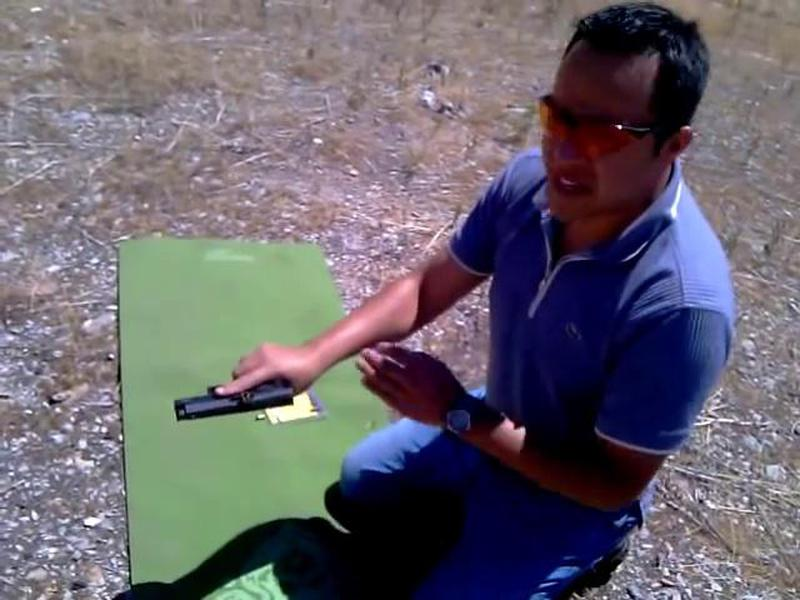Pistola: (142, 352, 297, 438)
